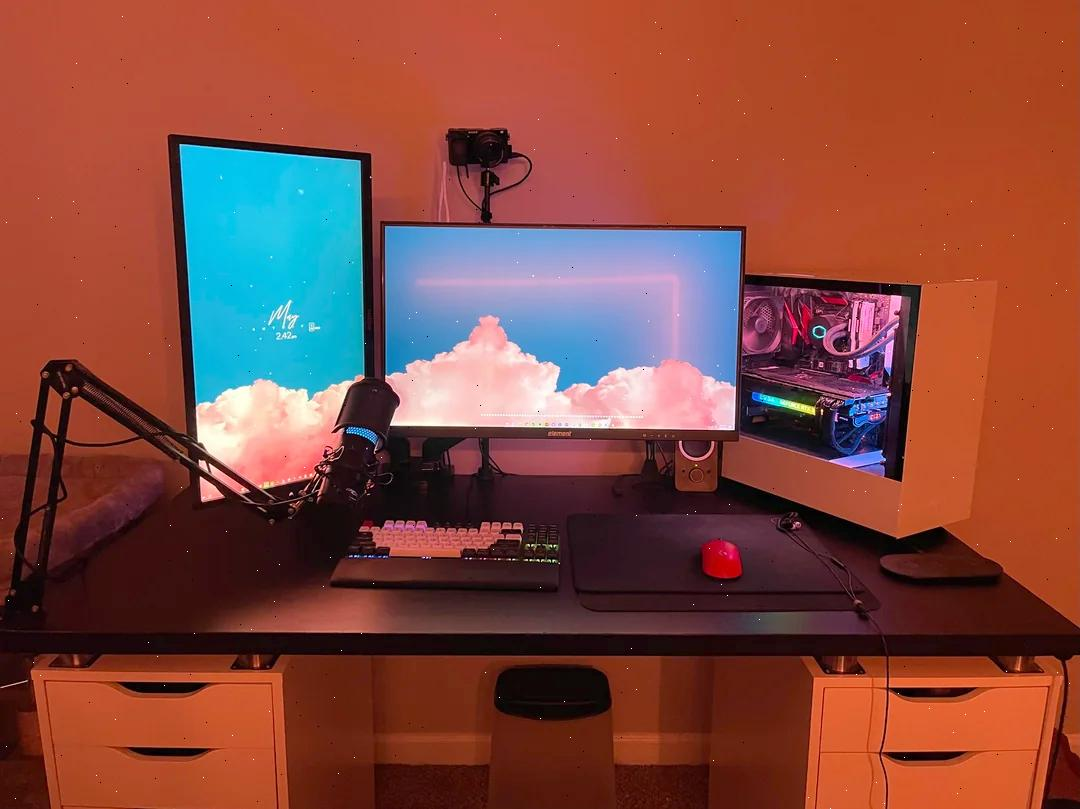camera: (437, 113, 535, 181)
keyboard: (317, 506, 577, 591)
mic: (300, 352, 407, 550)
monitor: (369, 213, 761, 445), (158, 121, 380, 511)
mouse: (692, 528, 751, 586)
pc: (723, 246, 1008, 554)
speaker: (668, 424, 725, 496)
